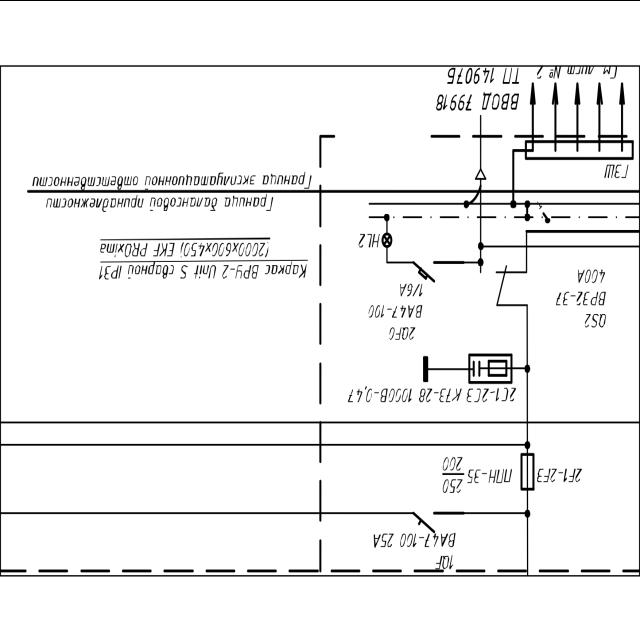-: (96, 234, 308, 280), (438, 452, 513, 497), (550, 266, 608, 306), (366, 281, 424, 319), (371, 528, 458, 550)
FU: (518, 449, 536, 491)
HL: (381, 231, 394, 249)
QF: (412, 256, 438, 284)
QS: (411, 508, 439, 534)
switch: (478, 264, 528, 308)
